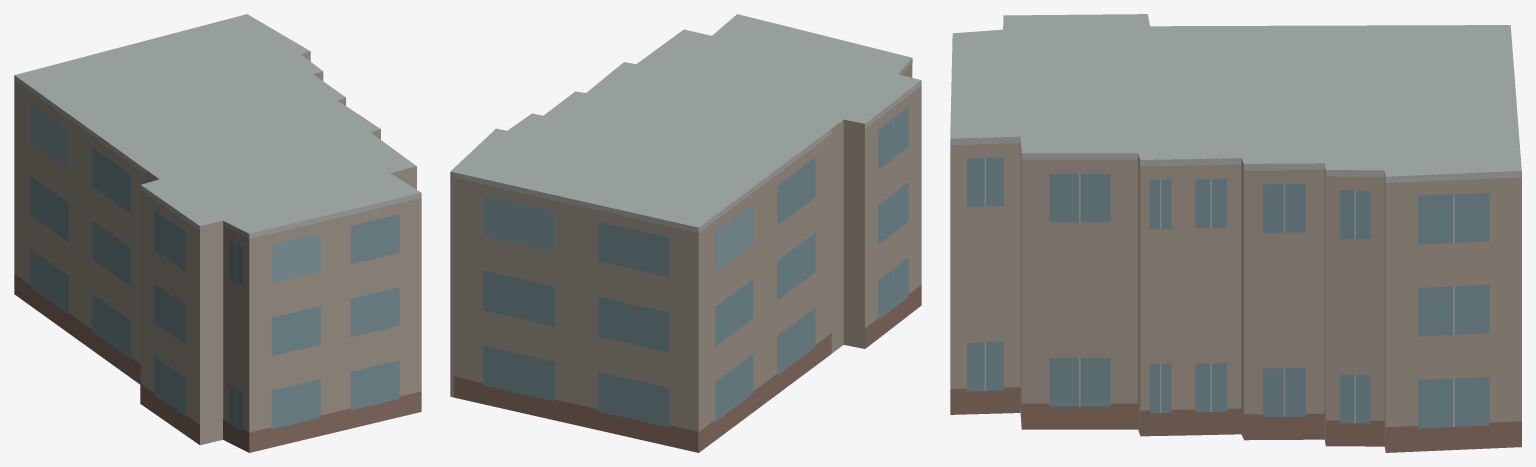
Rendered from survey-upis-32490414.glb.
3 views of the same model, side by side, from view 1: azimuth 30°, elevation 25°; view 2: azimuth 150°, elevation 25°; view 3: azimuth 270°, elevation 25° (orthographic). The views are drawn at different scales.
Parts seen in each view (by area): view 1: survey-upis-32490414.tmp; view 2: survey-upis-32490414.tmp; view 3: survey-upis-32490414.tmp.
Boxes of the visible parts, <box> form: survey-upis-32490414.tmp: <box>14,14,421,452</box>; survey-upis-32490414.tmp: <box>450,14,921,452</box>; survey-upis-32490414.tmp: <box>950,14,1521,452</box>.
Bounding box in the file's own units: 13.09 × 10.35 × 19.42.
